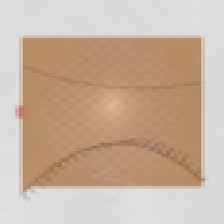foreign_body_visible: (103, 108, 122, 123)
